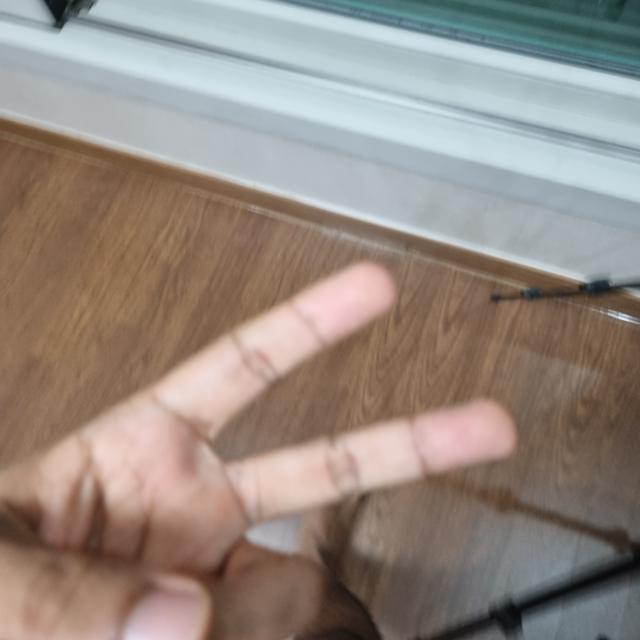Scissors: (0, 264, 518, 638)
